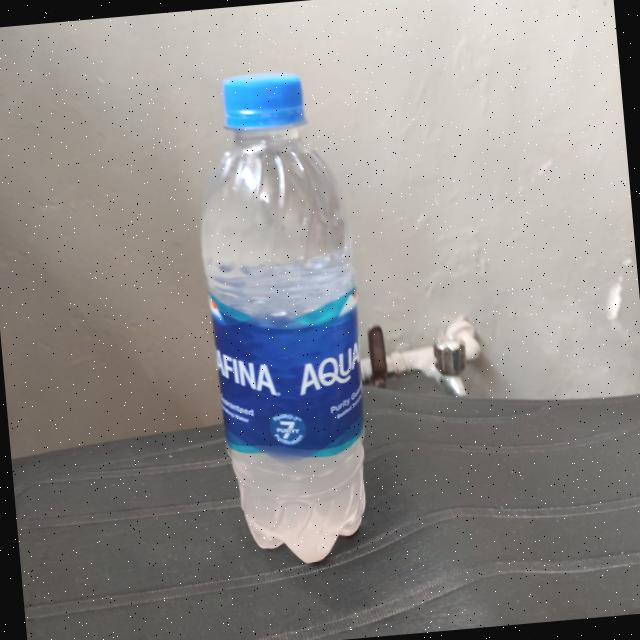bottle: (178, 60, 398, 571)
cap: (218, 70, 319, 144)
label: (208, 305, 373, 460)
